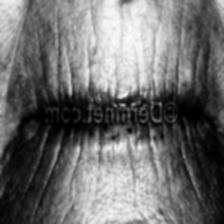Unclassified: (20, 124, 187, 168)
